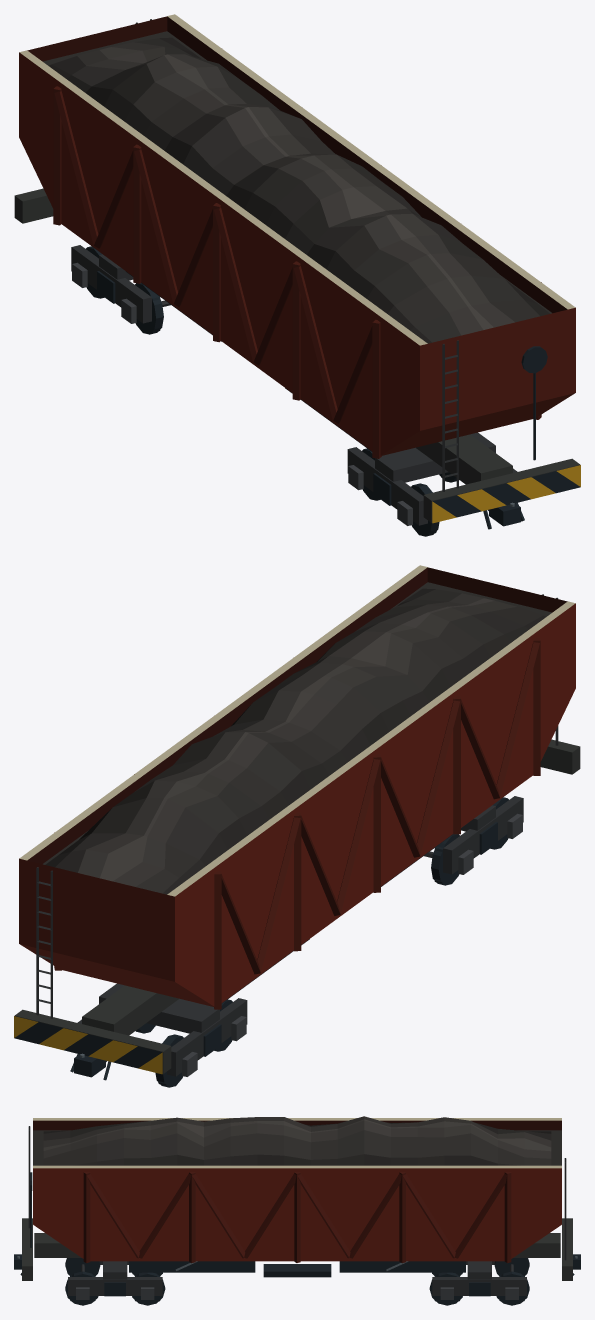
The model's file is heavy-hopper.glb.
The picture shows the model from 3 angles, top to bottom: view 1: azimuth 30°, elevation 25°; view 2: azimuth 150°, elevation 25°; view 3: azimuth 270°, elevation 25°; orthographic projection. The views are drawn at different scales.
Parts seen in each view (by area): view 1: heavy-hopper (×2); view 2: heavy-hopper (×2); view 3: heavy-hopper (×2).
Part boxes in pixels (bbox=[...]): heavy-hopper (×2): bbox=[14, 14, 580, 536]; heavy-hopper (×2): bbox=[14, 565, 580, 1087]; heavy-hopper (×2): bbox=[14, 1116, 580, 1305].
Size of the model in its own units: 9.49 by 14.11 by 42.
